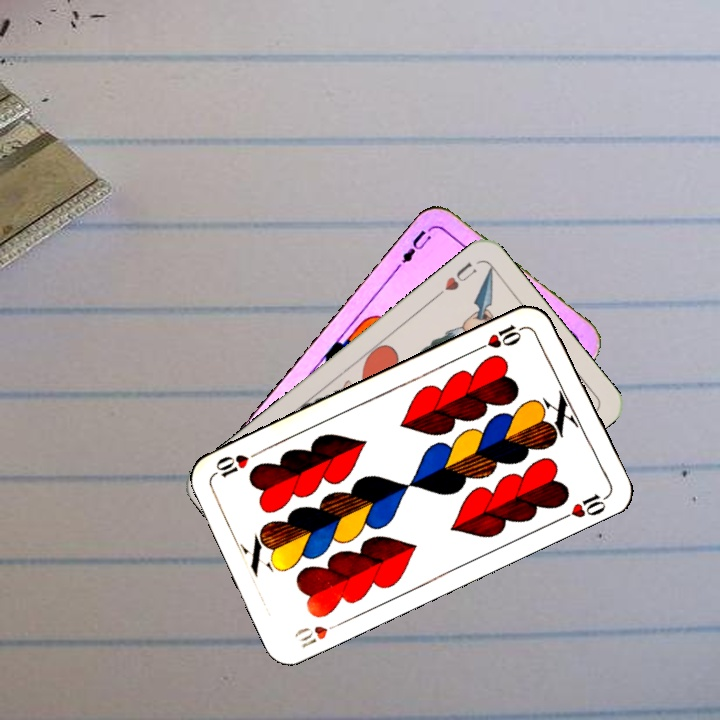EU: (392, 225, 434, 271)
H10: (290, 617, 347, 651), (473, 320, 529, 353)
HU: (432, 258, 480, 300)
